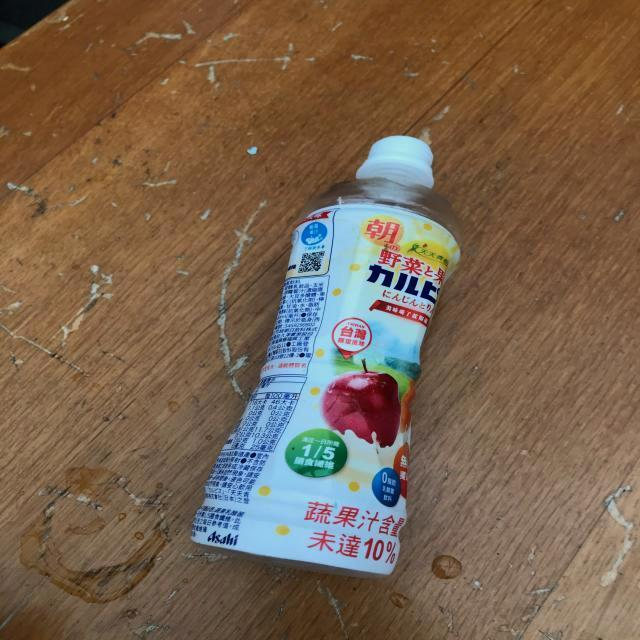bottle: (190, 136, 462, 579)
